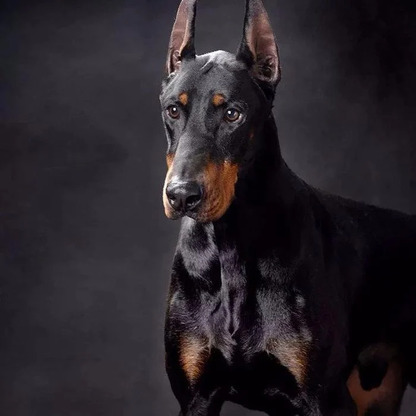doberman: (144, 3, 416, 410)
